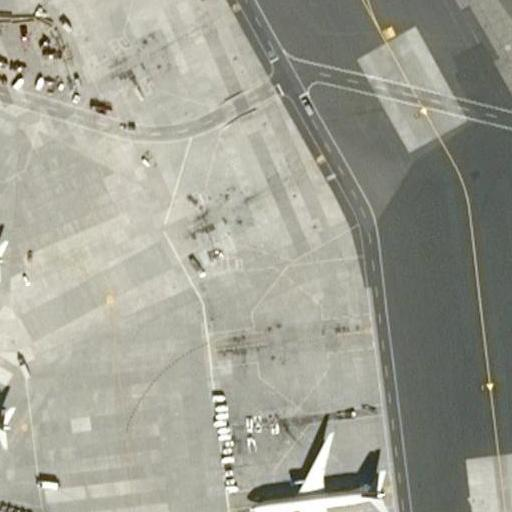Aircraft: (244, 421, 395, 512), (0, 341, 18, 482), (0, 189, 10, 304)
